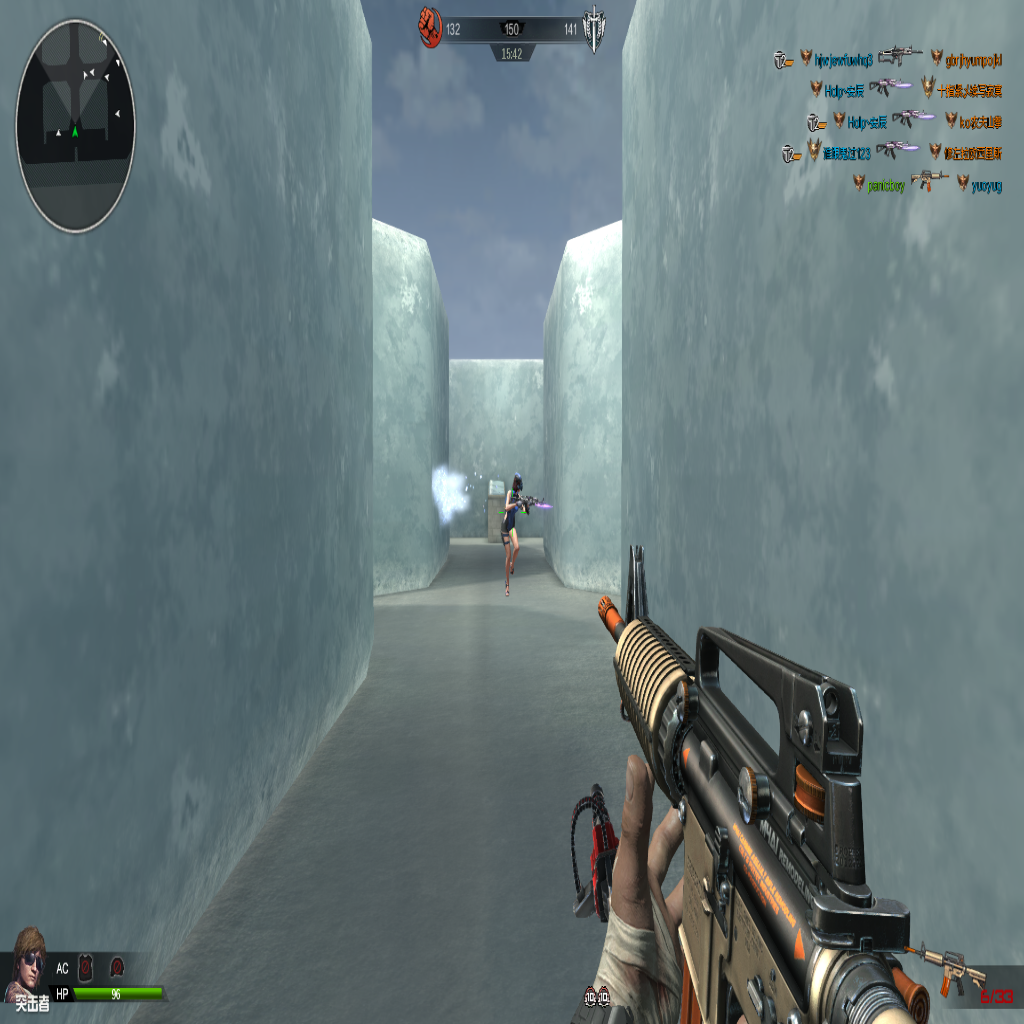ct: (500, 475, 535, 592)
